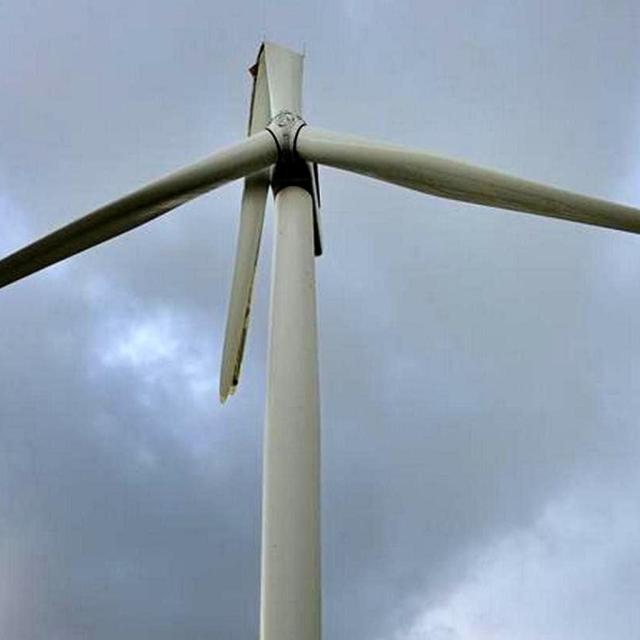crack: (213, 22, 320, 408)
